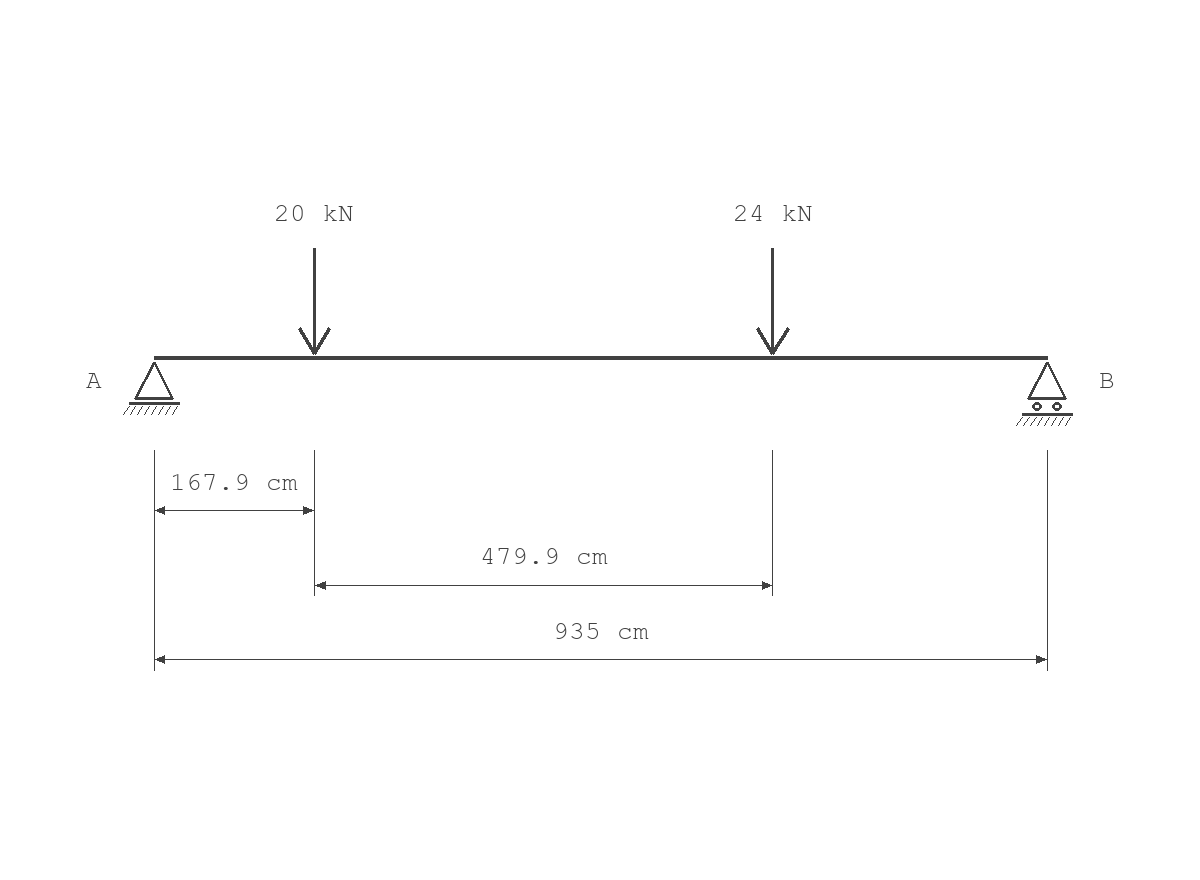pin_support: (123, 362, 180, 415)
point_load: (756, 248, 790, 355), (298, 248, 331, 355)
roller_support: (1016, 362, 1073, 426)
